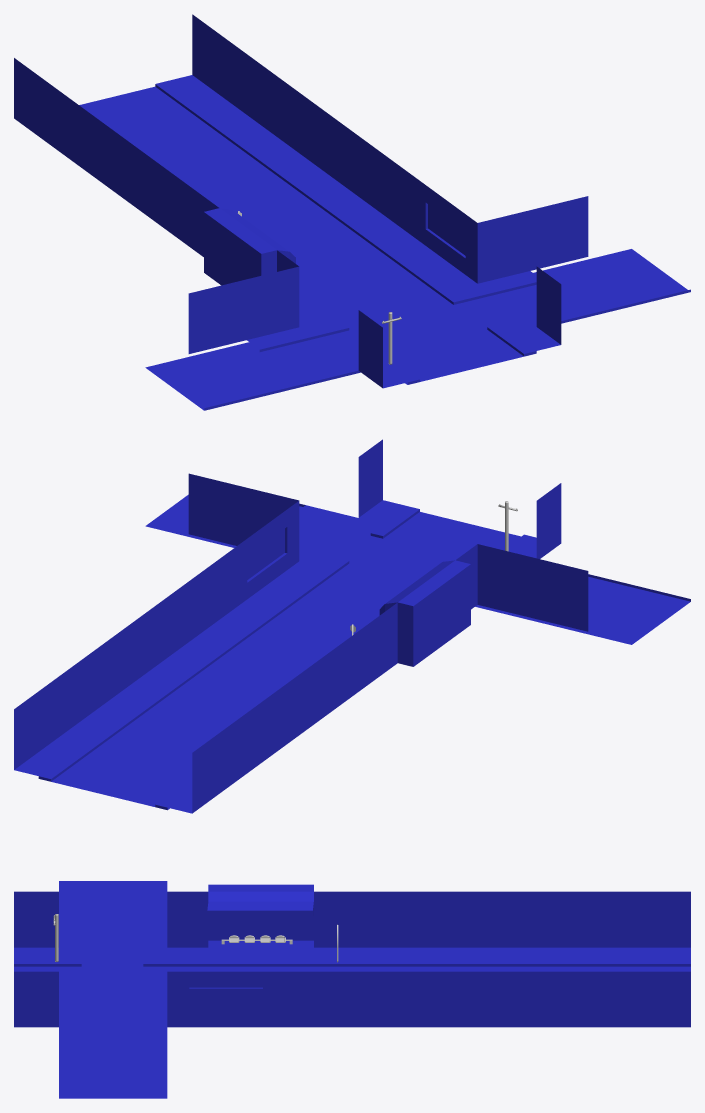
File: cenario3.fbx
The picture shows the model from 3 angles, top to bottom: view 1: azimuth 30°, elevation 25°; view 2: azimuth 150°, elevation 25°; view 3: azimuth 270°, elevation 25°; orthographic projection. The views are drawn at different scales.
Visible parts, largest first — view 1: Cenario; view 2: Cenario; view 3: Cenario.
Part boxes in pixels (bbox=[...]): Cenario: bbox=[14, 14, 690, 410]; Cenario: bbox=[14, 439, 690, 813]; Cenario: bbox=[14, 881, 690, 1098].
Bounding box in the file's own units: 293 × 36.42 × 384.
